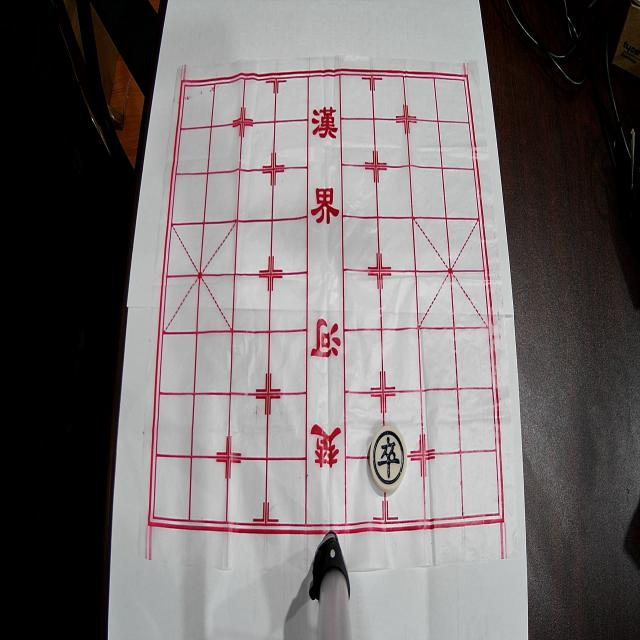black-soldier: (370, 425, 407, 491)
